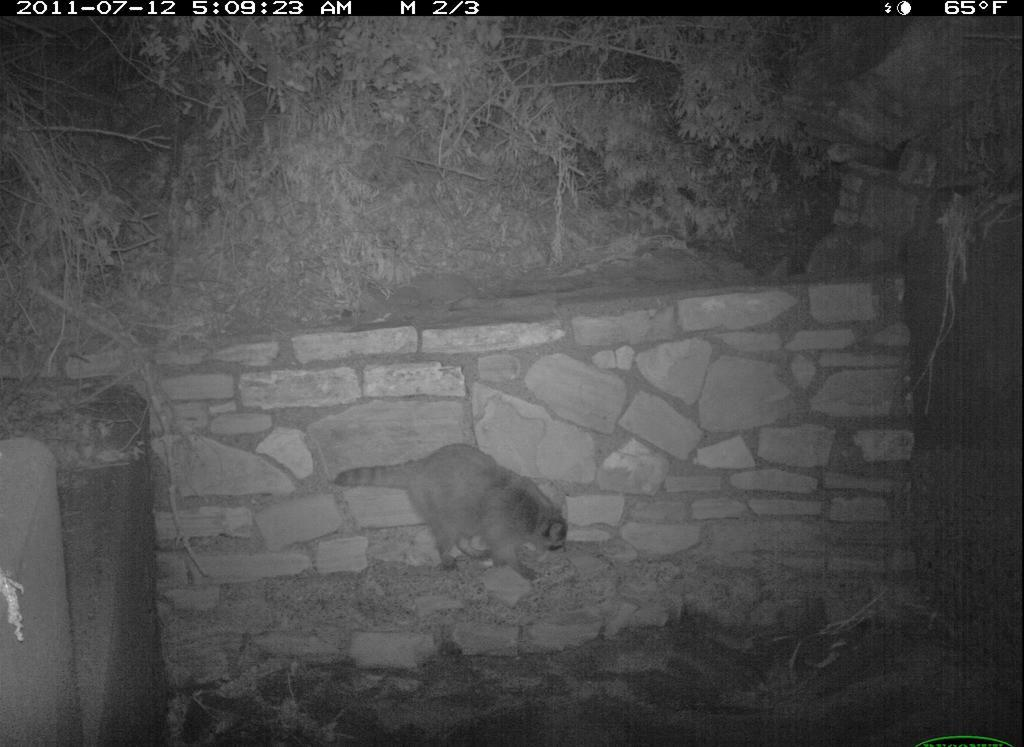raccoon: (331, 432, 584, 585)
